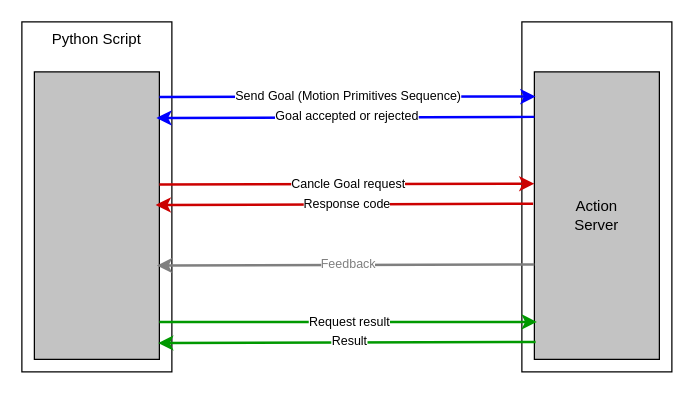
This 694x394 diagram has some shape labels left out. Each missing label, with the box of its shape:
Action Client: (33, 71, 159, 359)
Motion Primitives Forward Controller: (521, 21, 672, 372)
